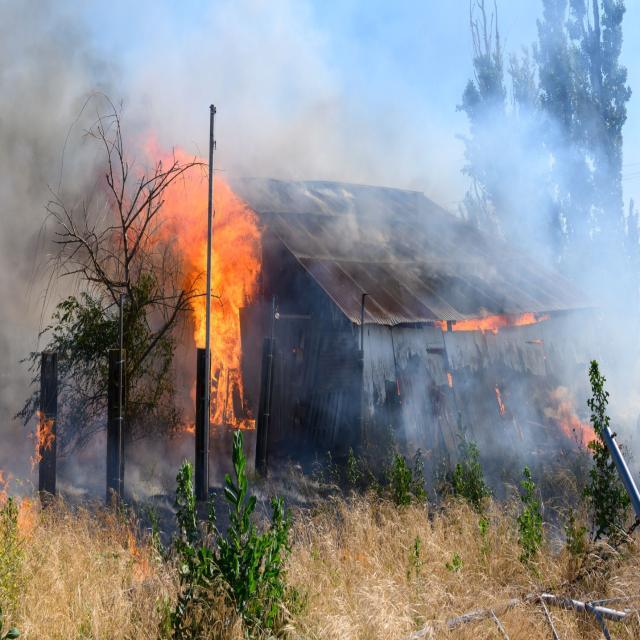Fire: (110, 131, 269, 437), (436, 310, 552, 335), (556, 398, 606, 454), (31, 407, 54, 470), (494, 382, 506, 417), (446, 371, 453, 388)
Smoke: (1, 1, 638, 557)
